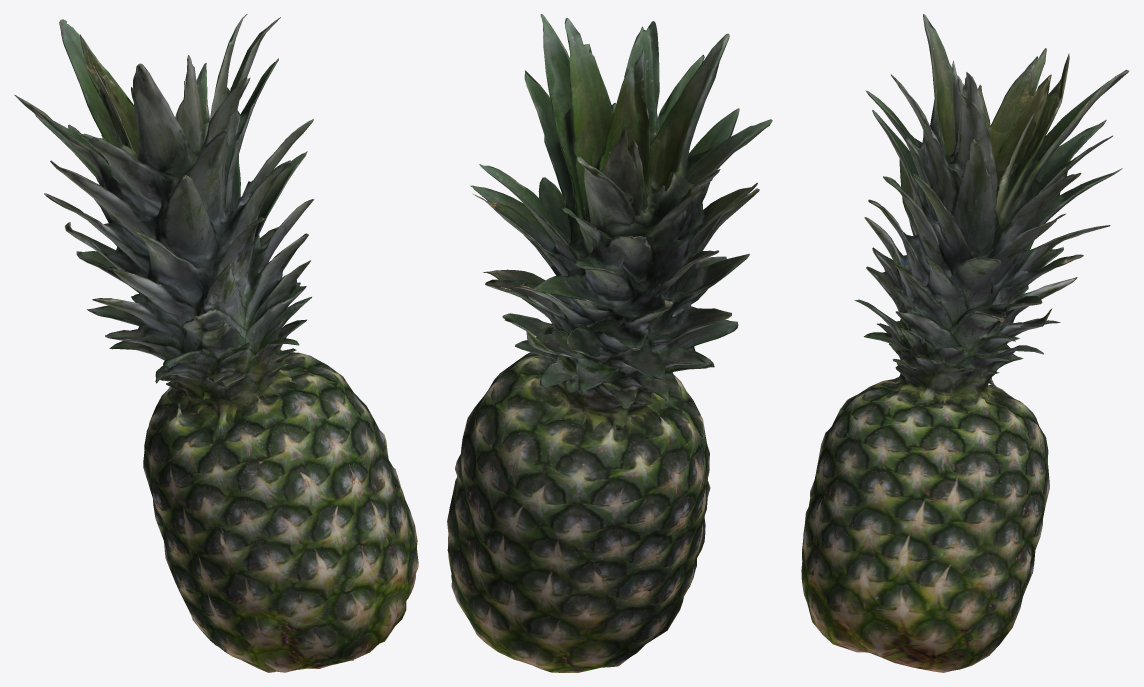
File: juicy_pineapple.glb
3 renders of one model, left to right at view 1: azimuth 30°, elevation 25°; view 2: azimuth 150°, elevation 25°; view 3: azimuth 270°, elevation 25°, orthographic. The views are drawn at different scales.
Parts seen in each view (by area): view 1: Pineapple; view 2: Pineapple; view 3: Pineapple.
Part boxes in pixels (box(x1,y1,x2,y2)): Pineapple: box(14, 14, 418, 672); Pineapple: box(447, 14, 772, 672); Pineapple: box(801, 14, 1129, 672).
Size of the model in its own units: 13.77 by 26.34 by 13.55.
Materials: 1 (1 with a texture image).
